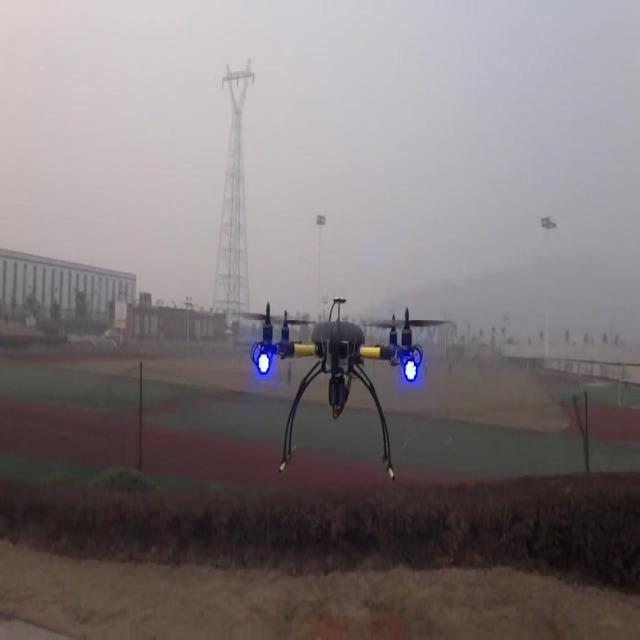UAV: (236, 299, 448, 481)
